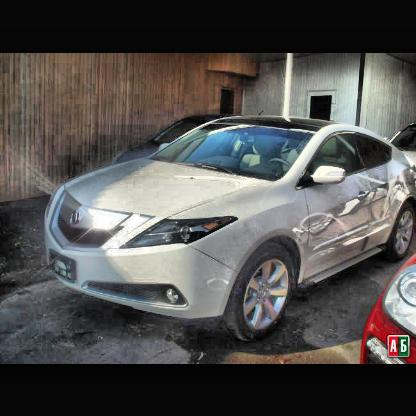Acura ZDX Hatchback 2012: (42, 118, 416, 343)
